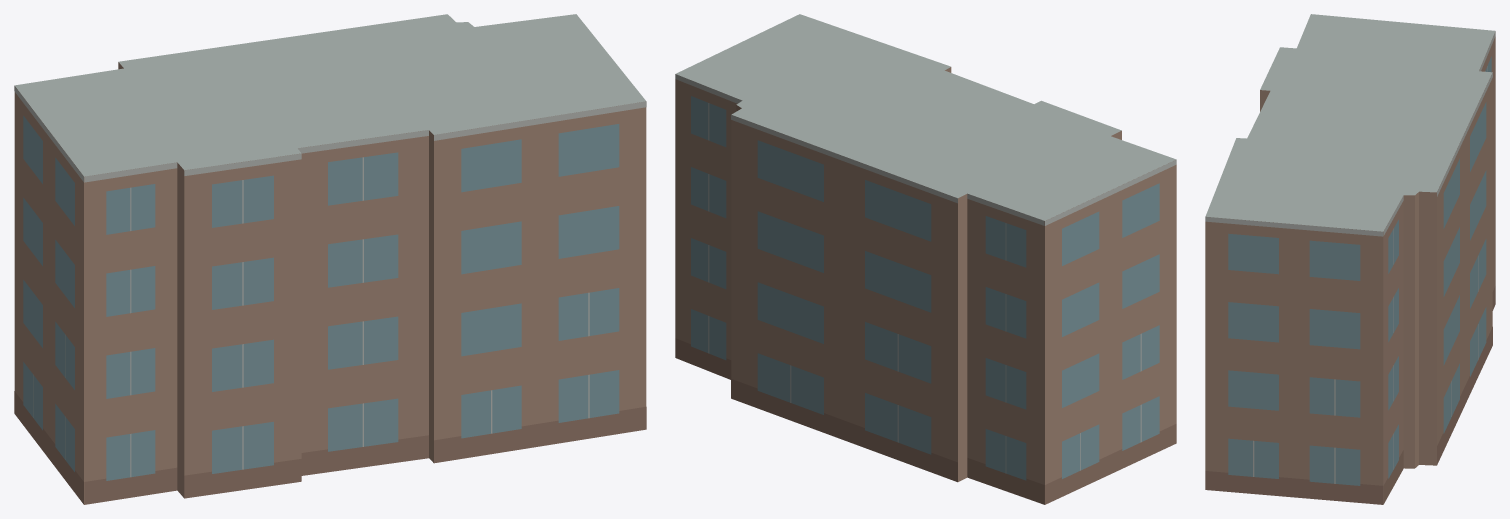
File: survey-upis-32878611.glb
The picture shows the model from 3 angles, left to right: view 1: azimuth 30°, elevation 25°; view 2: azimuth 150°, elevation 25°; view 3: azimuth 270°, elevation 25°; orthographic projection. The views are drawn at different scales.
Parts seen in each view (by area): view 1: survey-upis-32878611.tmp; view 2: survey-upis-32878611.tmp; view 3: survey-upis-32878611.tmp.
Boxes of the visible parts, x1=… form: survey-upis-32878611.tmp: x1=14, y1=14, x2=646, y2=504; survey-upis-32878611.tmp: x1=675, y1=14, x2=1176, y2=504; survey-upis-32878611.tmp: x1=1205, y1=14, x2=1495, y2=504.
Size of the model in its own units: 23.08 by 13.5 by 13.01.
